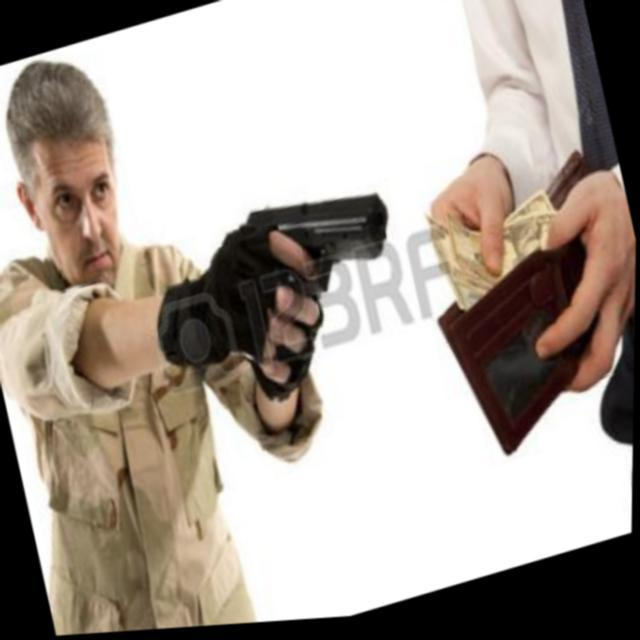weapon: (174, 168, 431, 412)
